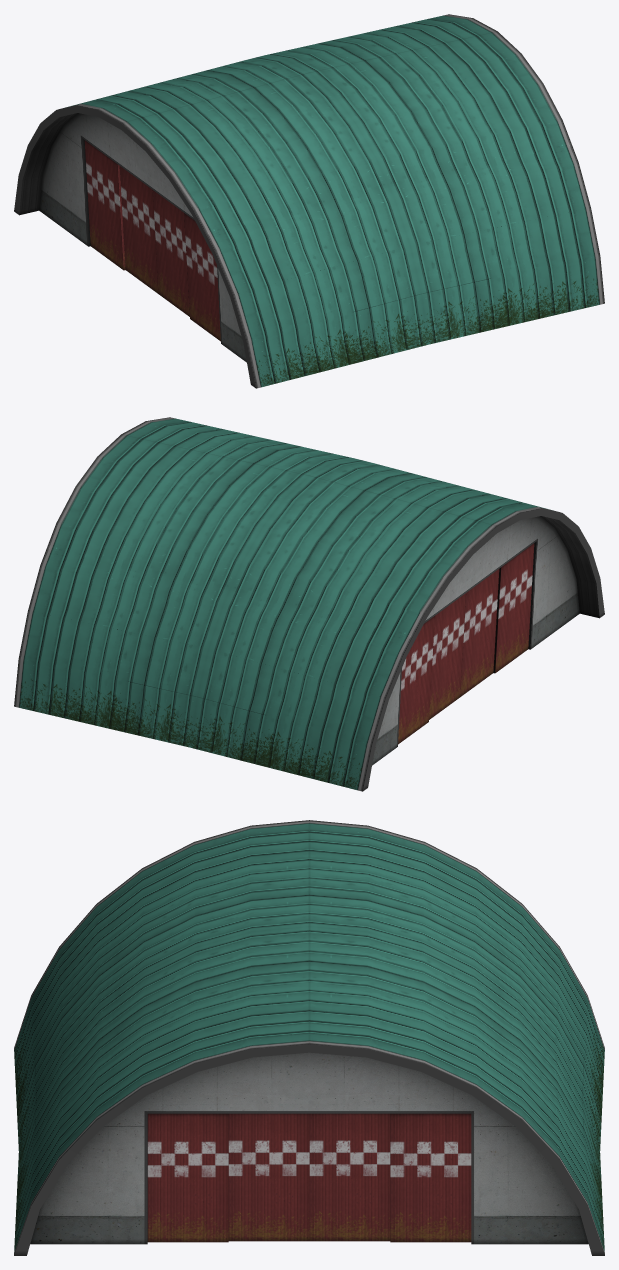
File: Hangar_Locked.fbx
The picture shows the model from 3 angles, top to bottom: view 1: azimuth 30°, elevation 25°; view 2: azimuth 150°, elevation 25°; view 3: azimuth 270°, elevation 25°; orthographic projection. The views are drawn at different scales.
Visible parts, largest first — view 1: Hangar_Locked; view 2: Hangar_Locked; view 3: Hangar_Locked.
Boxes of the visible parts, x1,y1,x2,y2 form: Hangar_Locked: (14, 14, 604, 388); Hangar_Locked: (14, 417, 604, 791); Hangar_Locked: (14, 820, 604, 1255).
Bounding box in the file's own units: 91.85 × 43.07 × 102.
